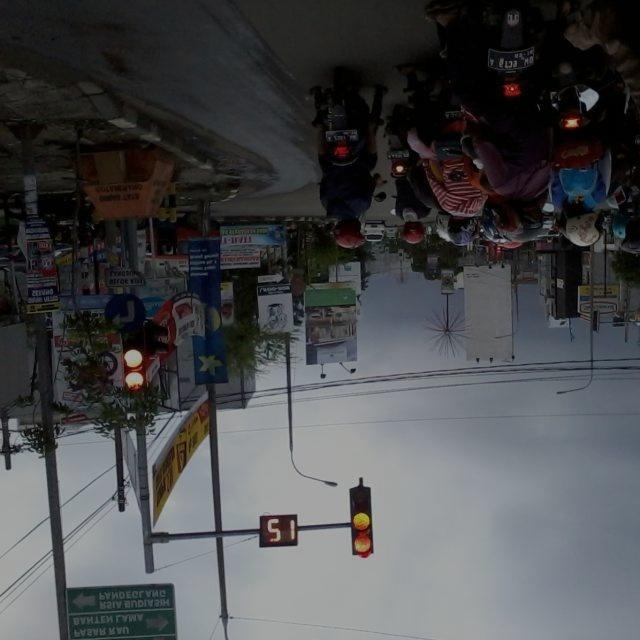Yellow: (106, 316, 166, 433), (330, 484, 390, 598)
